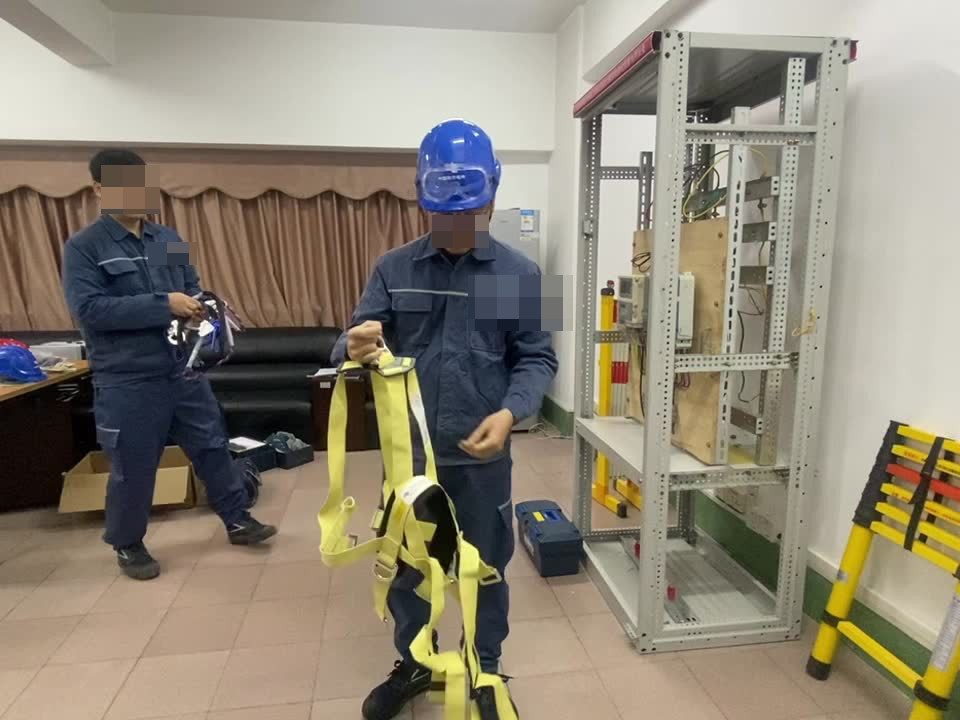downsuit: (383, 442, 527, 688), (96, 383, 251, 539)
halt: (410, 119, 503, 256)
hand: (455, 407, 505, 460), (343, 321, 397, 369), (170, 291, 203, 318)
noear: (90, 177, 113, 203)
person: (347, 116, 570, 714), (67, 148, 272, 568)
unhalt: (90, 149, 158, 222)
upsuit: (360, 235, 553, 461), (67, 220, 195, 370)
